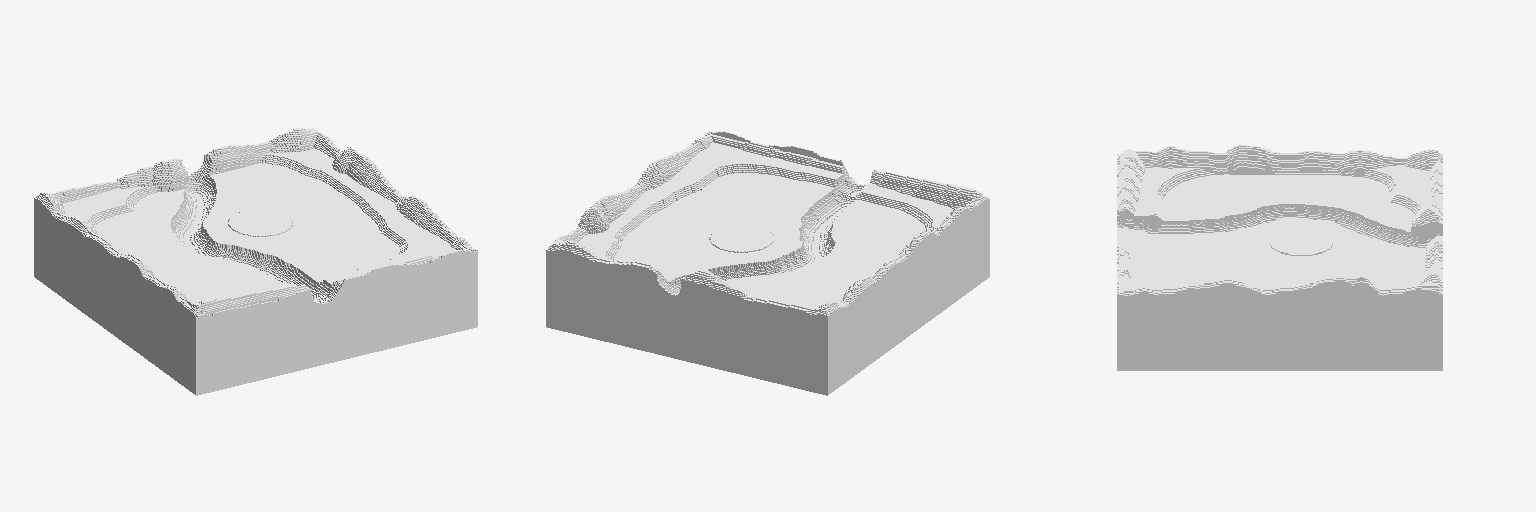
The model's file is level-plains.obj.
3 renders of one model, left to right at view 1: azimuth 30°, elevation 25°; view 2: azimuth 150°, elevation 25°; view 3: azimuth 270°, elevation 25°, orthographic.
Parts seen in each view (by area): view 1: object 1; view 2: object 1; view 3: object 1.
Part boxes in pixels (left/top/right/bottom): object 1: left=34, top=128, right=477, bottom=395; object 1: left=546, top=131, right=989, bottom=395; object 1: left=1117, top=145, right=1442, bottom=370.
Bounding box in the file's own units: 25.6 × 8 × 25.6.